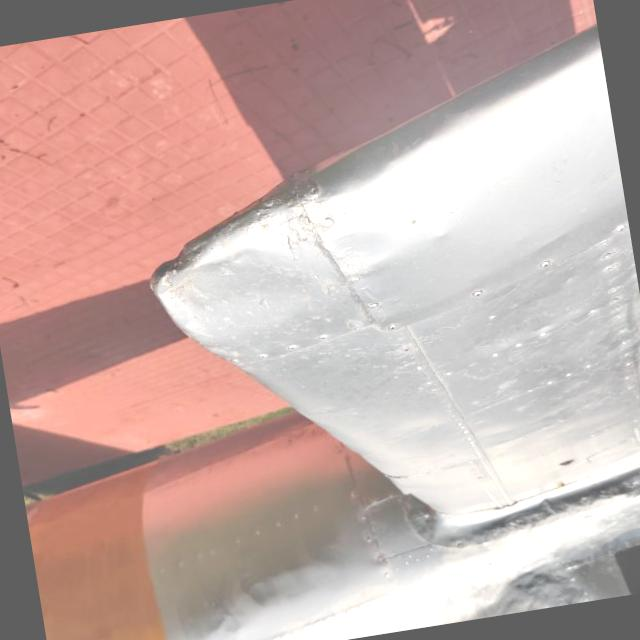dent: (125, 212, 332, 372)
